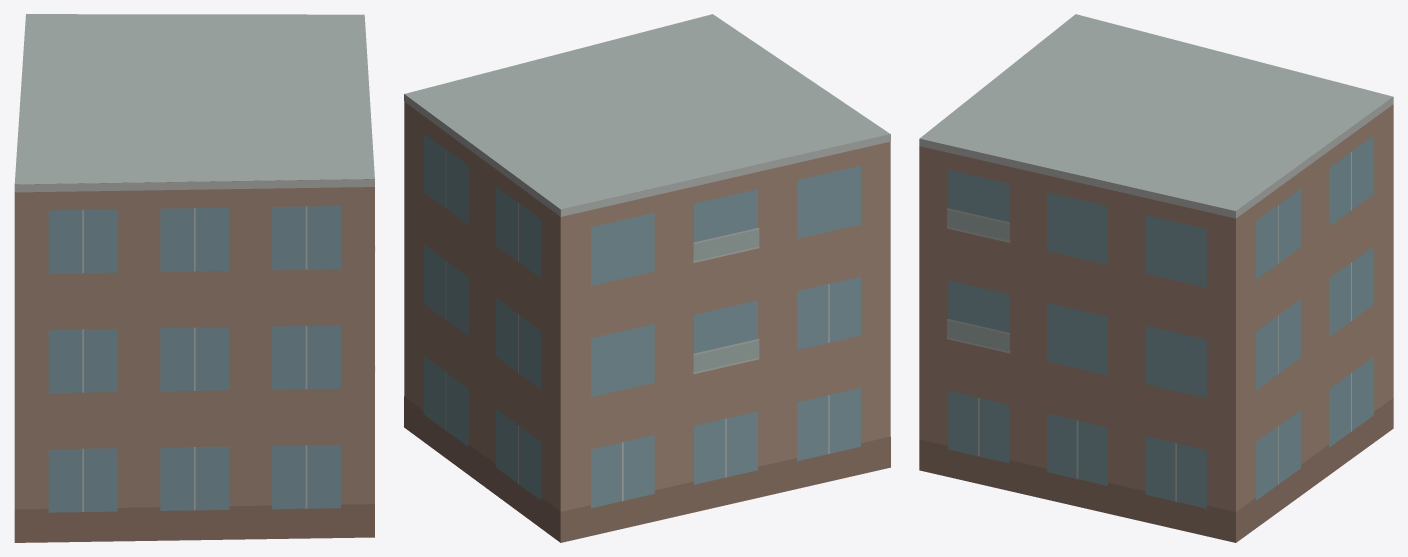
Rendered from survey-upis-32834604.glb.
The picture shows the model from 3 angles, left to right: view 1: azimuth 30°, elevation 25°; view 2: azimuth 150°, elevation 25°; view 3: azimuth 270°, elevation 25°; orthographic projection. The views are drawn at different scales.
Visible parts, largest first — view 1: survey-upis-32834604.tmp; view 2: survey-upis-32834604.tmp; view 3: survey-upis-32834604.tmp.
Part boxes in pixels (x1,y1,x2,y2): survey-upis-32834604.tmp: (14, 14, 375, 542); survey-upis-32834604.tmp: (404, 14, 890, 542); survey-upis-32834604.tmp: (919, 14, 1393, 542).
Size of the model in its own units: 13.9 by 10.9 by 14.13.
